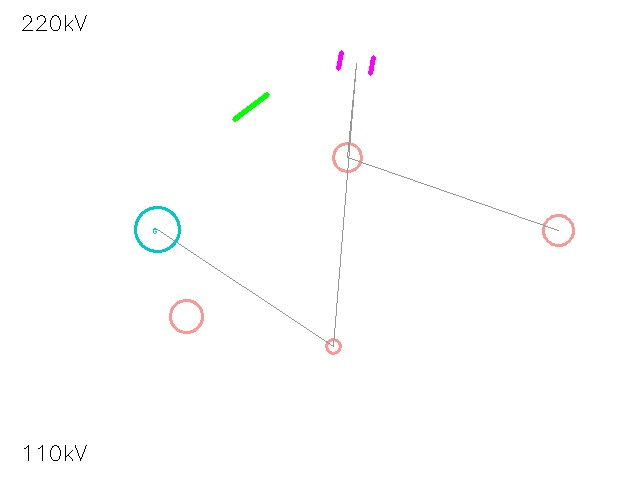busbar: (225, 81, 277, 133)
capacitor: (329, 36, 383, 90)
disconnect_switch: (318, 331, 348, 361)
feeder_terminal: (527, 199, 589, 261)
generator: (135, 207, 179, 251)
reactor: (318, 128, 376, 186)
voltage_transformer: (154, 284, 218, 348)
